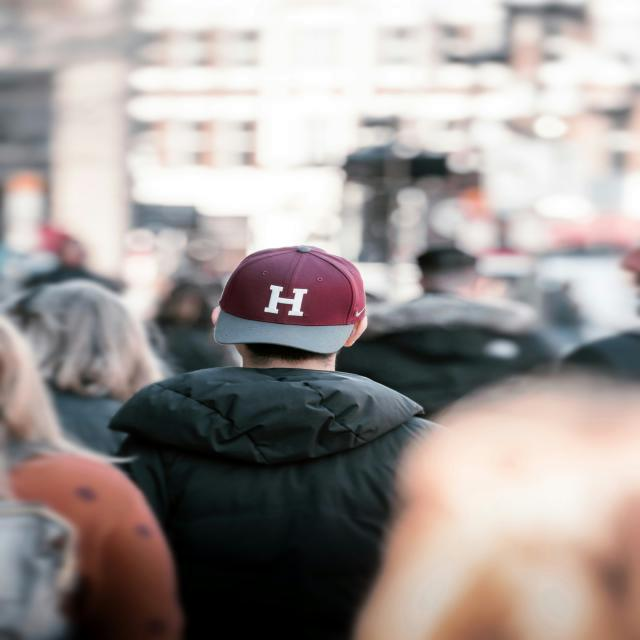no_hard_hat: (215, 246, 365, 353)
person: (111, 247, 431, 640)
